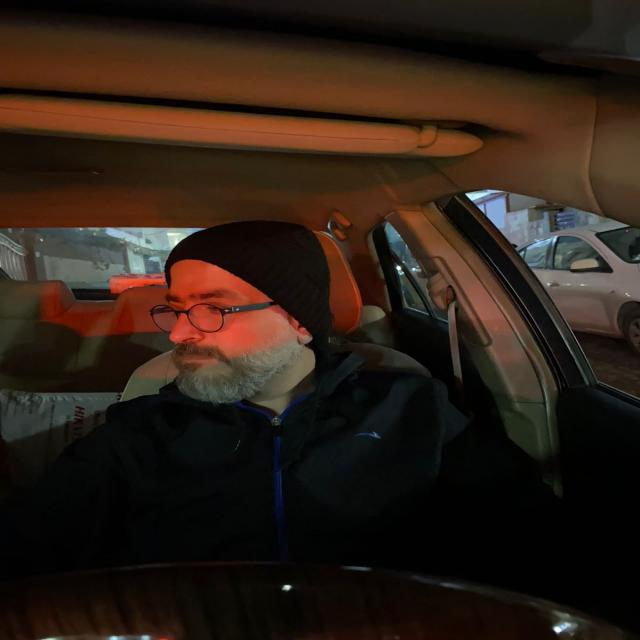person: (142, 223, 336, 416)
